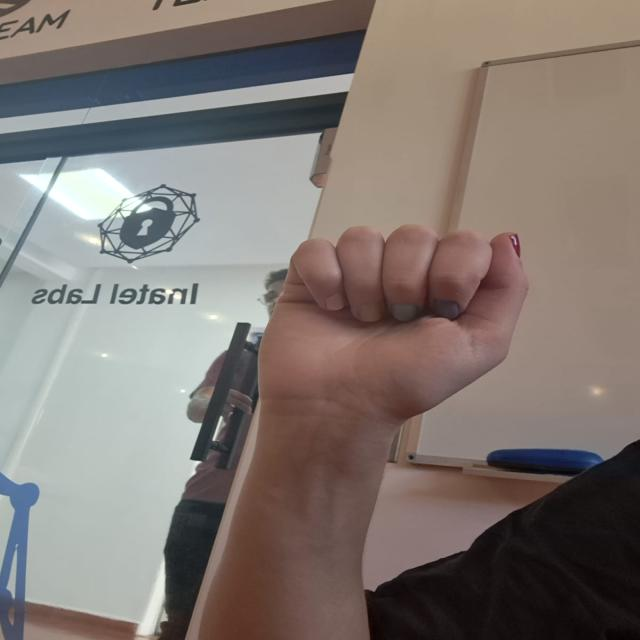A: (237, 210, 539, 432)
